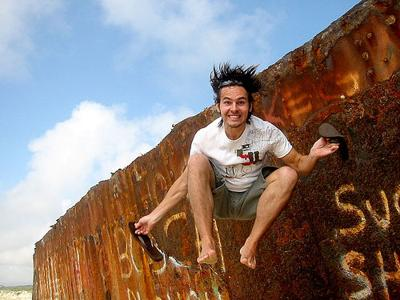person: (136, 65, 338, 270)
